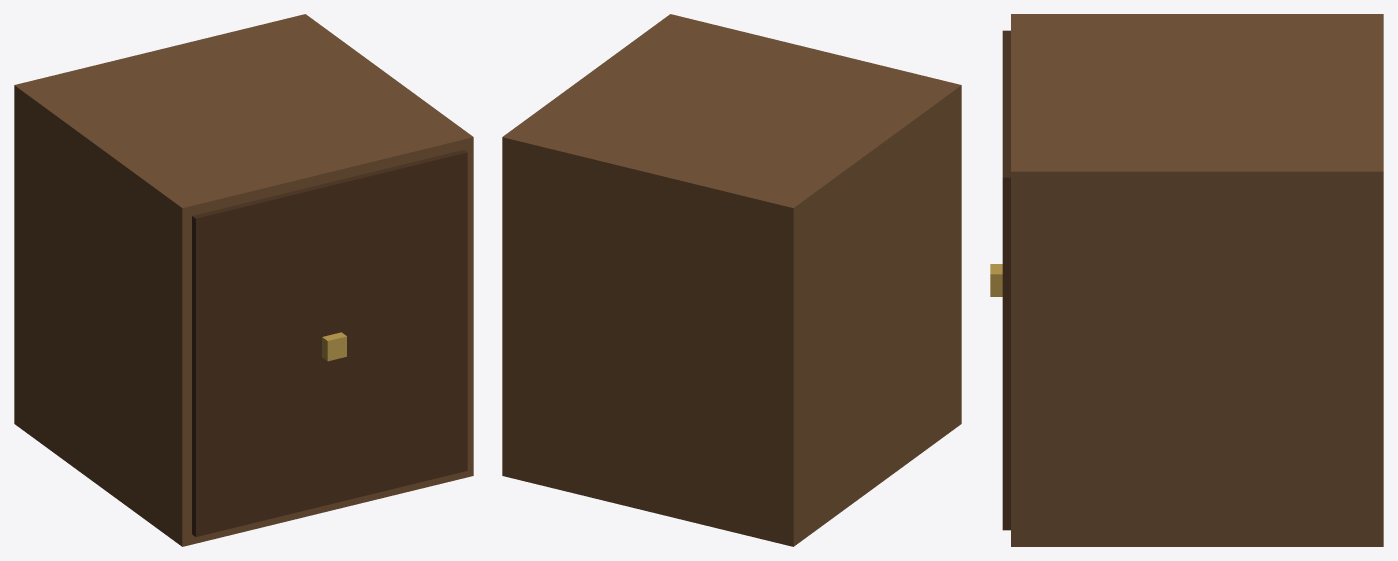
Rendered from nightstand.glb.
The picture shows the model from 3 angles, left to right: view 1: azimuth 30°, elevation 25°; view 2: azimuth 150°, elevation 25°; view 3: azimuth 270°, elevation 25°; orthographic projection. The views are drawn at different scales.
Parts seen in each view (by area): view 1: nightstand; view 2: nightstand; view 3: nightstand.
Boxes of the visible parts, x1,y1,x2,y2 form: nightstand: (14, 14, 473, 546); nightstand: (502, 14, 961, 546); nightstand: (990, 14, 1383, 546).
Size of the model in its own units: 0.45 by 0.5 by 0.475.
